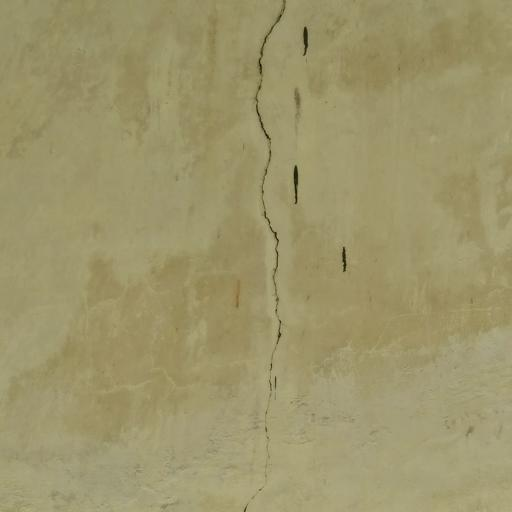minor_crack: (242, 0, 289, 512)
